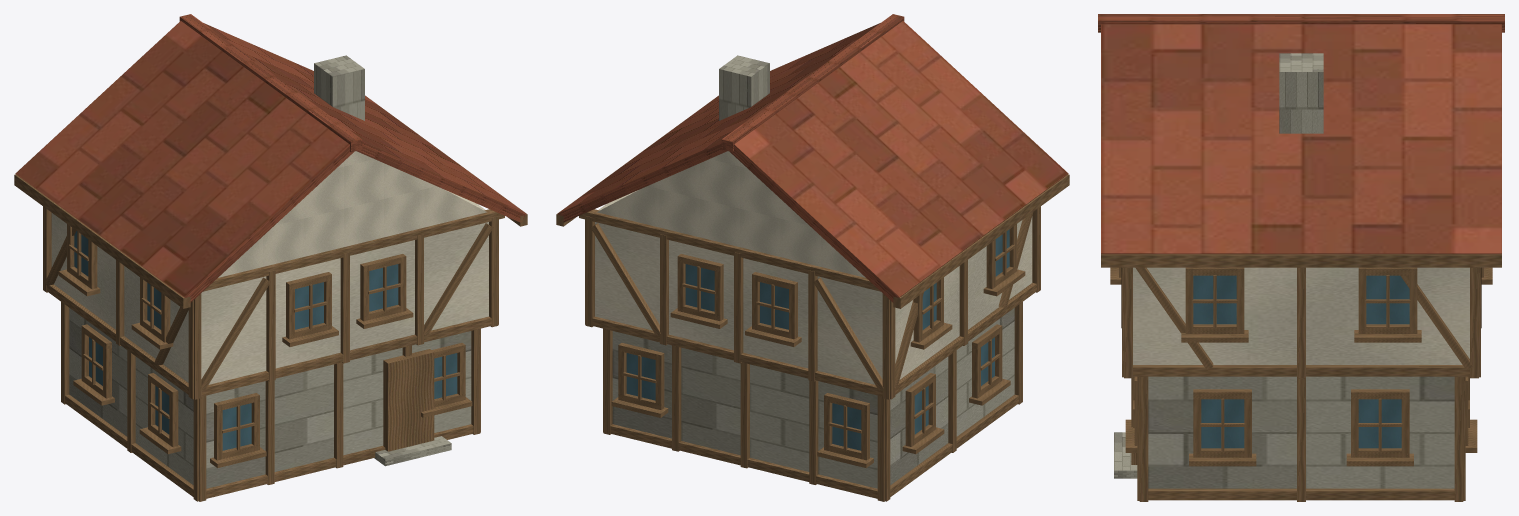
3 views of the same model, side by side, from view 1: azimuth 30°, elevation 25°; view 2: azimuth 150°, elevation 25°; view 3: azimuth 270°, elevation 25° (orthographic). The views are drawn at different scales.
Visible parts, largest first — view 1: house-roof, house-wood, house-plaster, house-stone, house-glass; view 2: house-roof, house-wood, house-plaster, house-stone, house-glass; view 3: house-roof, house-wood, house-stone, house-plaster, house-glass.
Boxes of the visible parts, bbox=[...] form: house-roof: bbox=[15, 14, 526, 302]; house-wood: bbox=[14, 95, 527, 501]; house-plaster: bbox=[51, 151, 488, 384]; house-stone: bbox=[69, 55, 471, 488]; house-glass: bbox=[74, 231, 457, 450]; house-roof: bbox=[557, 14, 1068, 302]; house-wood: bbox=[556, 95, 1069, 501]; house-plaster: bbox=[595, 151, 1032, 384]; house-stone: bbox=[612, 55, 1014, 488]; house-glass: bbox=[626, 229, 1009, 450]; house-roof: bbox=[1098, 14, 1504, 254]; house-wood: bbox=[1101, 254, 1501, 501]; house-stone: bbox=[1114, 53, 1454, 488]; house-plaster: bbox=[1133, 267, 1469, 364]; house-glass: bbox=[1193, 275, 1409, 448].
Size of the model in its own units: 8.54 by 8.03 by 7.36.
5 materials, 5 textured.
